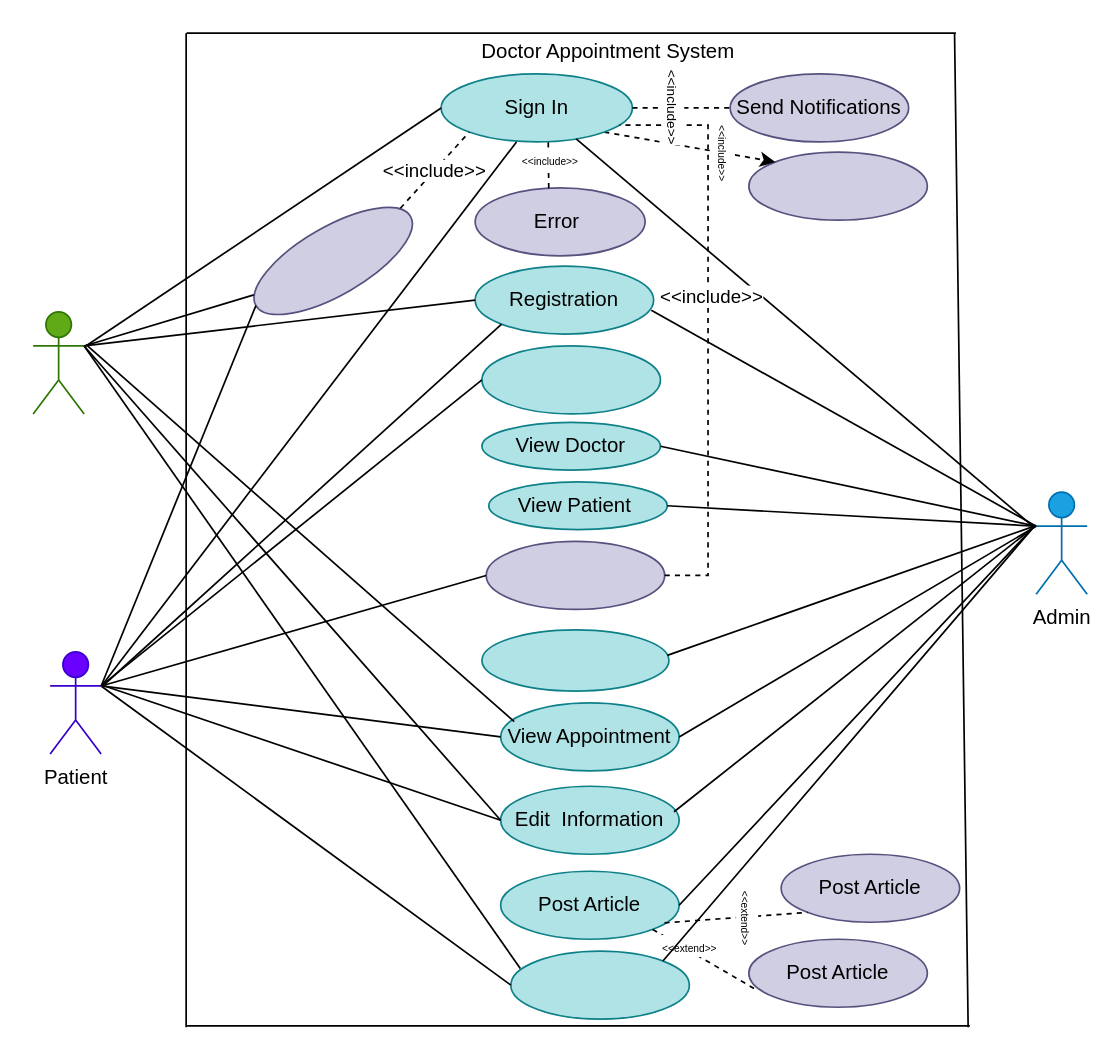
This 1120x1063 diagram has some shape labels left out. Here are the shapes that lost their labels. From the top down, the centre of each, then its label:
the point at 837,185: Verify Pass
the point at 332,260: Cancel Appointments
the point at 57,362: Doctor
the point at 570,379: Find Doctor
the point at 574,574: Request Appointments
the point at 574,659: Delete Patient & Doctor
the point at 599,984: Log Out
